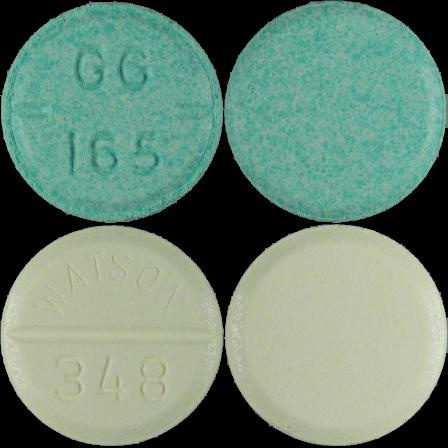10544-536: (0, 0, 224, 224)
